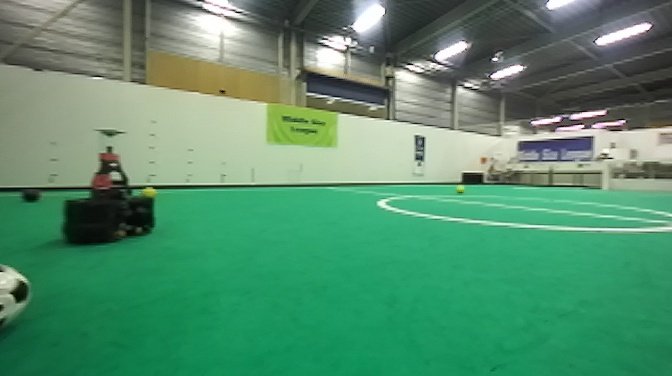ball: (1, 262, 34, 333), (21, 185, 45, 205), (140, 183, 158, 197), (455, 182, 467, 194)
goal: (602, 157, 672, 192)
goalpost: (601, 159, 610, 192)
robot: (61, 125, 157, 250)
